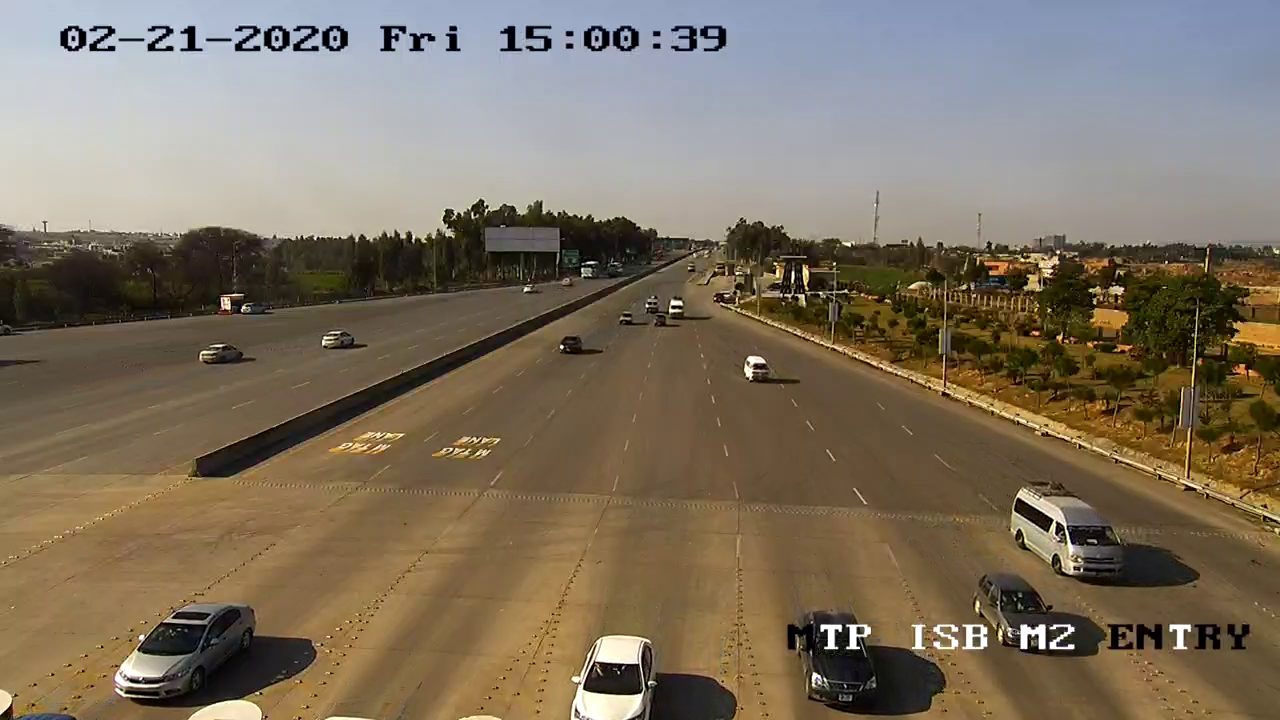f1: (95, 583, 268, 712), (560, 620, 666, 720)
f2: (1000, 468, 1140, 591)
